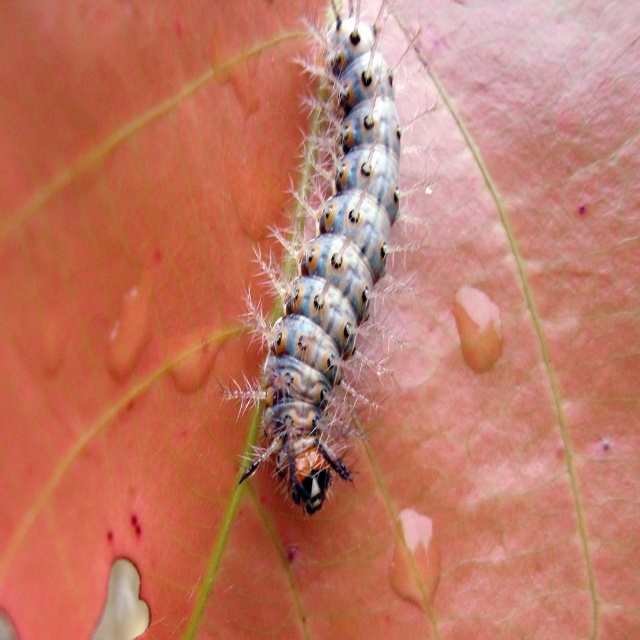Caterpillar: (209, 0, 445, 522)
